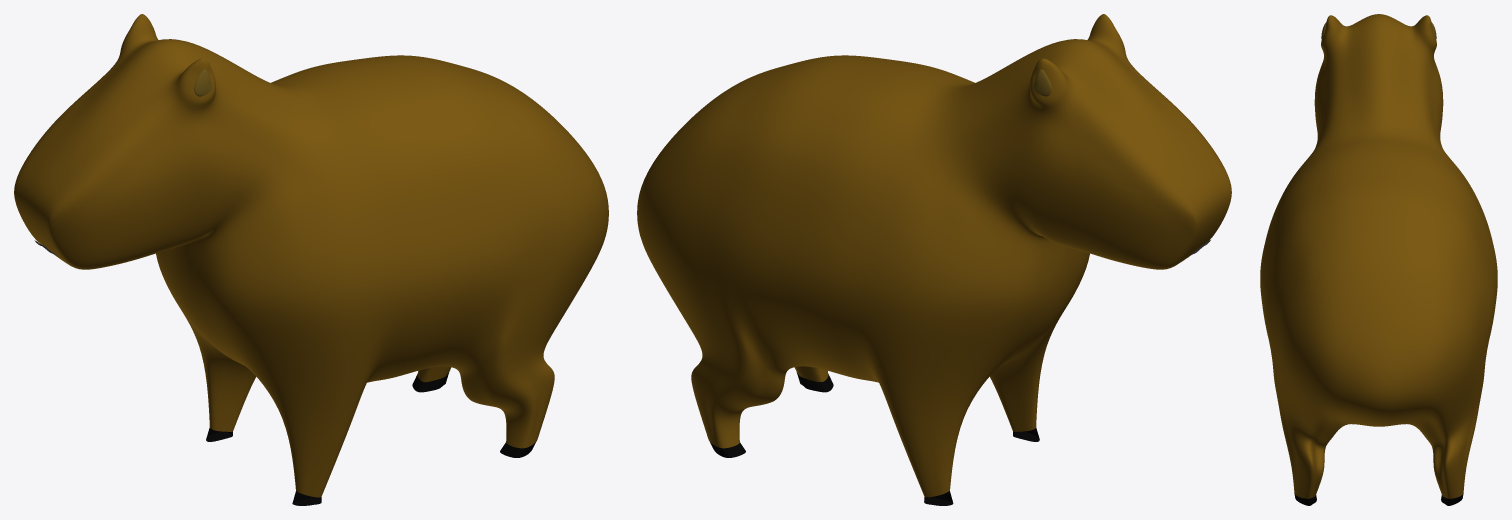
File: Capybara.fbx
3 views of the same model, side by side, from view 1: azimuth 30°, elevation 25°; view 2: azimuth 150°, elevation 25°; view 3: azimuth 270°, elevation 25° (orthographic). The views are drawn at different scales.
Visible parts, largest first — view 1: Roundcube, Roundcube.005; view 2: Roundcube, Roundcube.005; view 3: Roundcube, Roundcube.005.
Boxes of the visible parts, x1,y1,x2,y2 form: Roundcube: (14,14,608,497); Roundcube.005: (412,372,536,457); Roundcube: (637,14,1231,497); Roundcube.005: (710,372,833,457); Roundcube: (1260,14,1497,498); Roundcube.005: (1294,493,1463,505).
Bounding box in the file's own units: 308 × 237 × 140.
